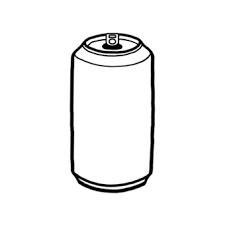can: (67, 29, 163, 195)
